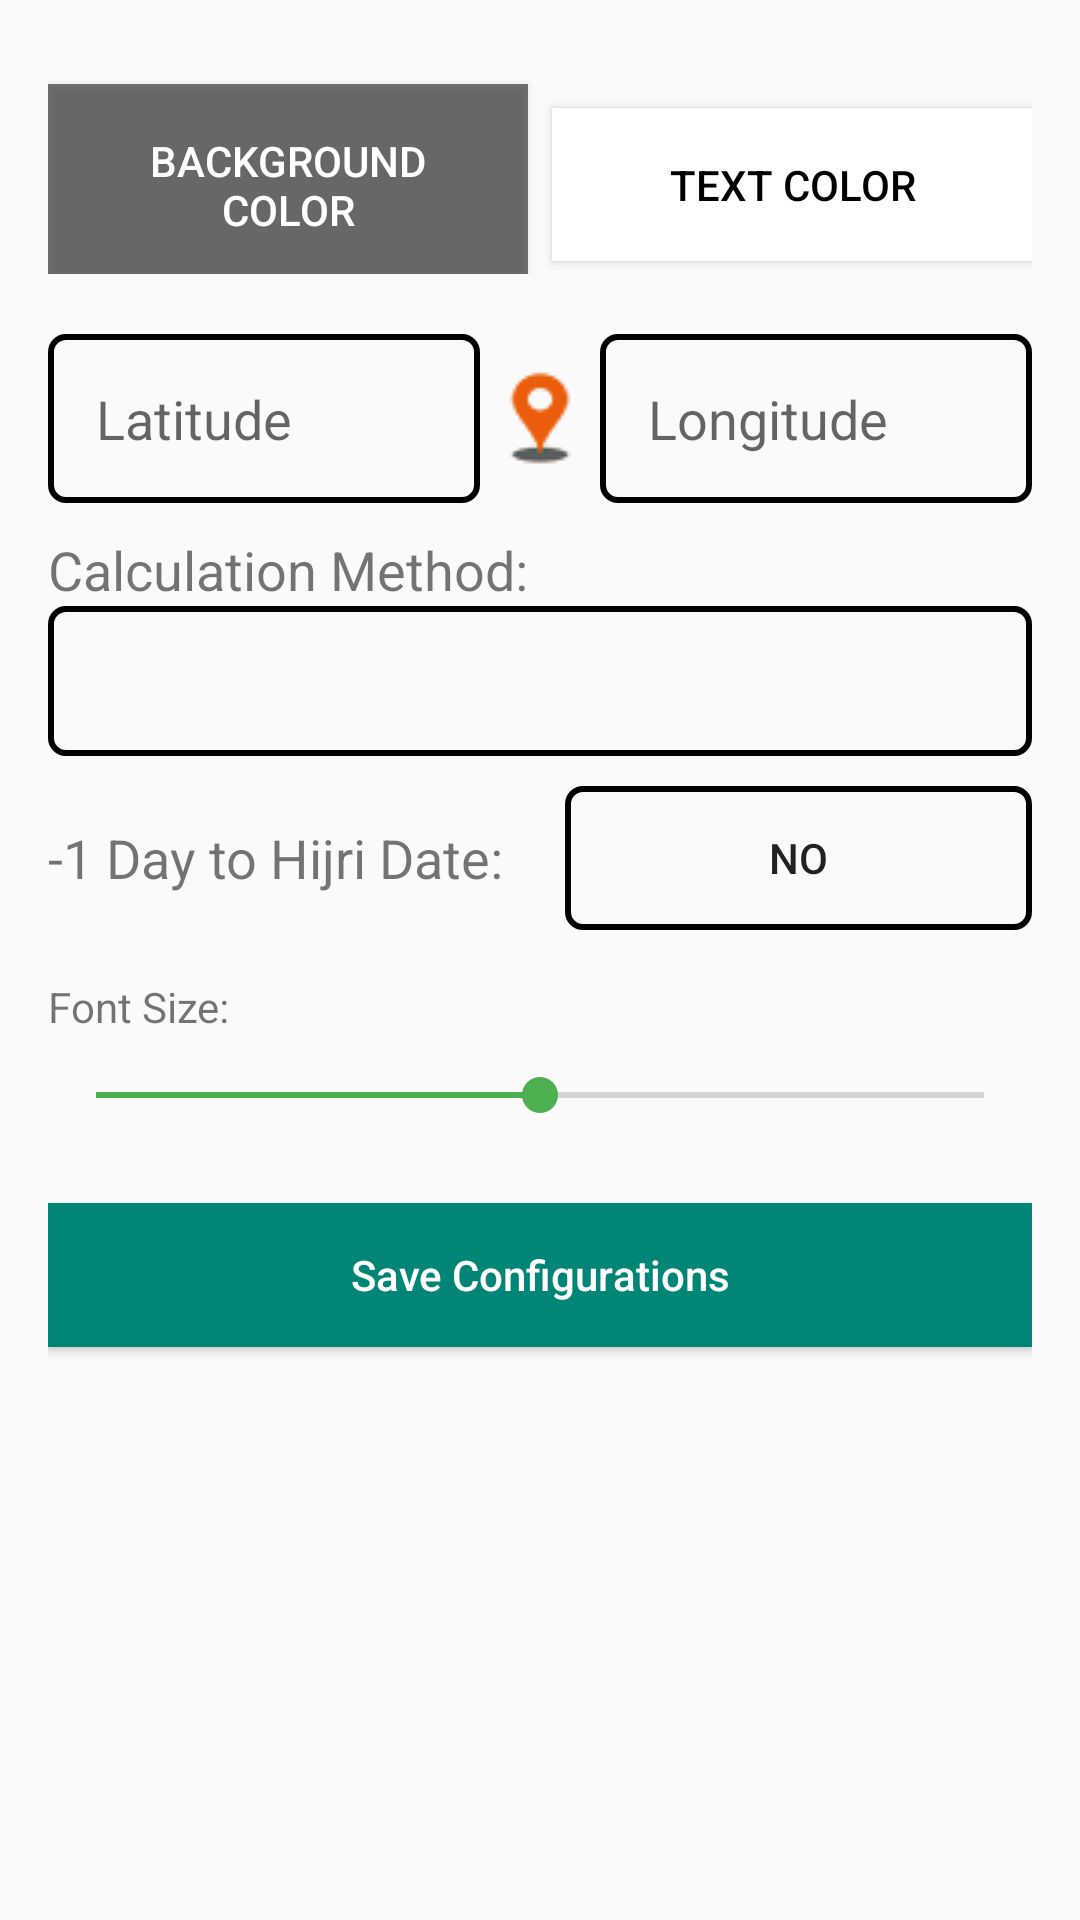

Icon click points for this 1080px x 1920px phone screenshot, format point (x, y):
location: point (540, 418)
